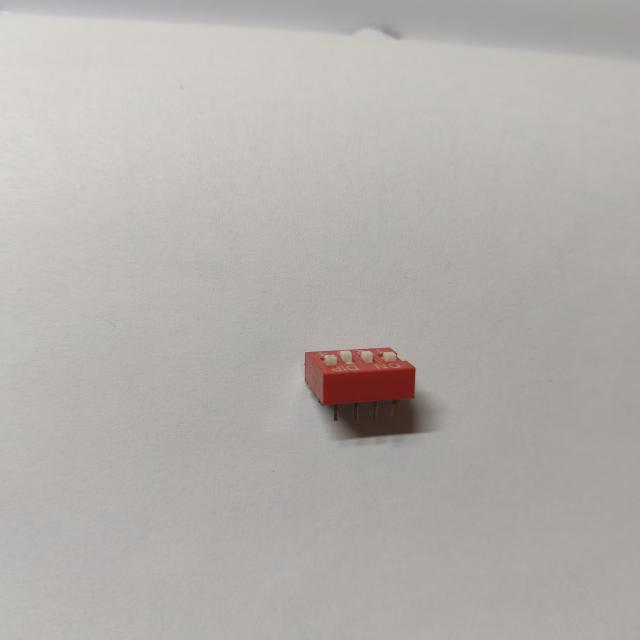switch: (296, 341, 432, 428)
